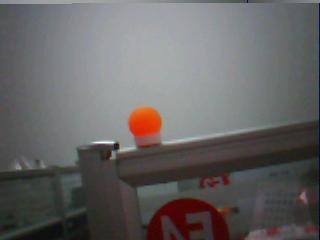oball: (127, 106, 161, 135)
